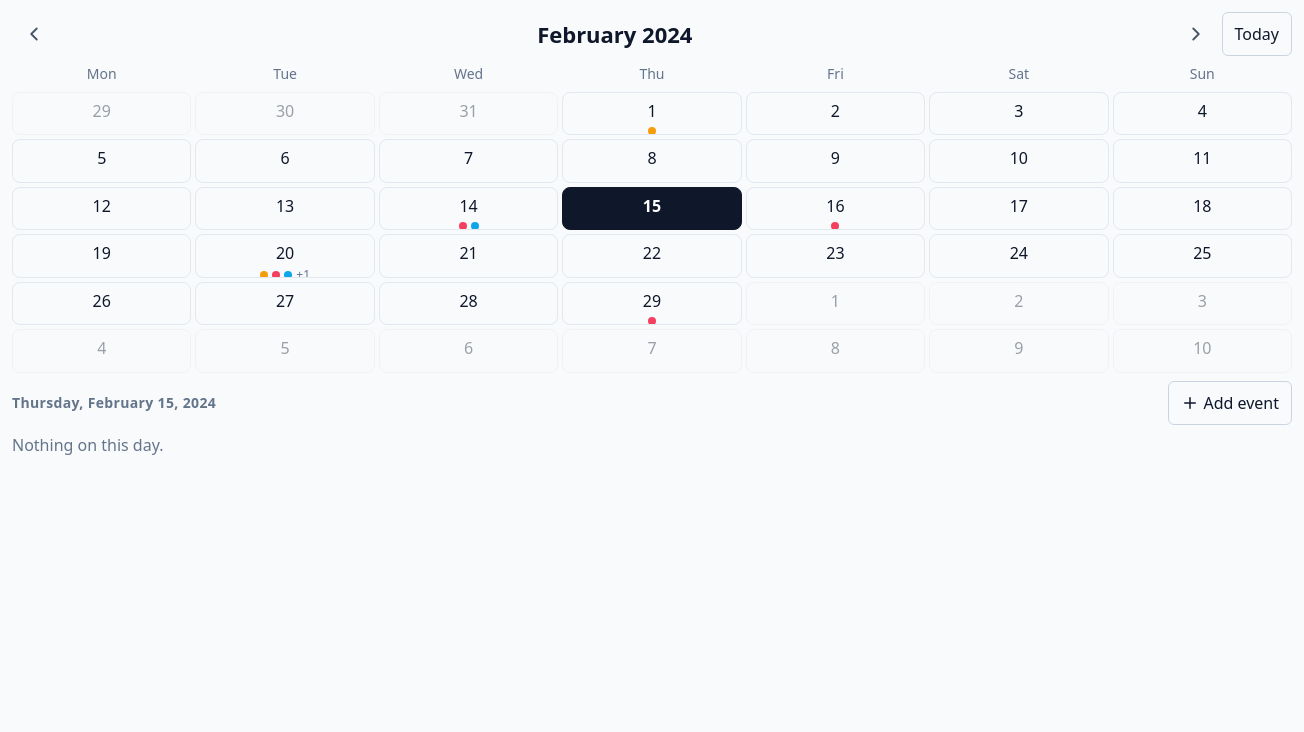
it: Calendar — items land on the right days › lists every item on a busy day in the order the API returned them
This screenshot has width=1304, height=732.
Check: the heading "February 2024" is shown, box x1=537 y1=19 x2=692 y2=49
Step 1. Click the button "14" → (468, 209), box x1=379 y1=187 x2=558 y2=230
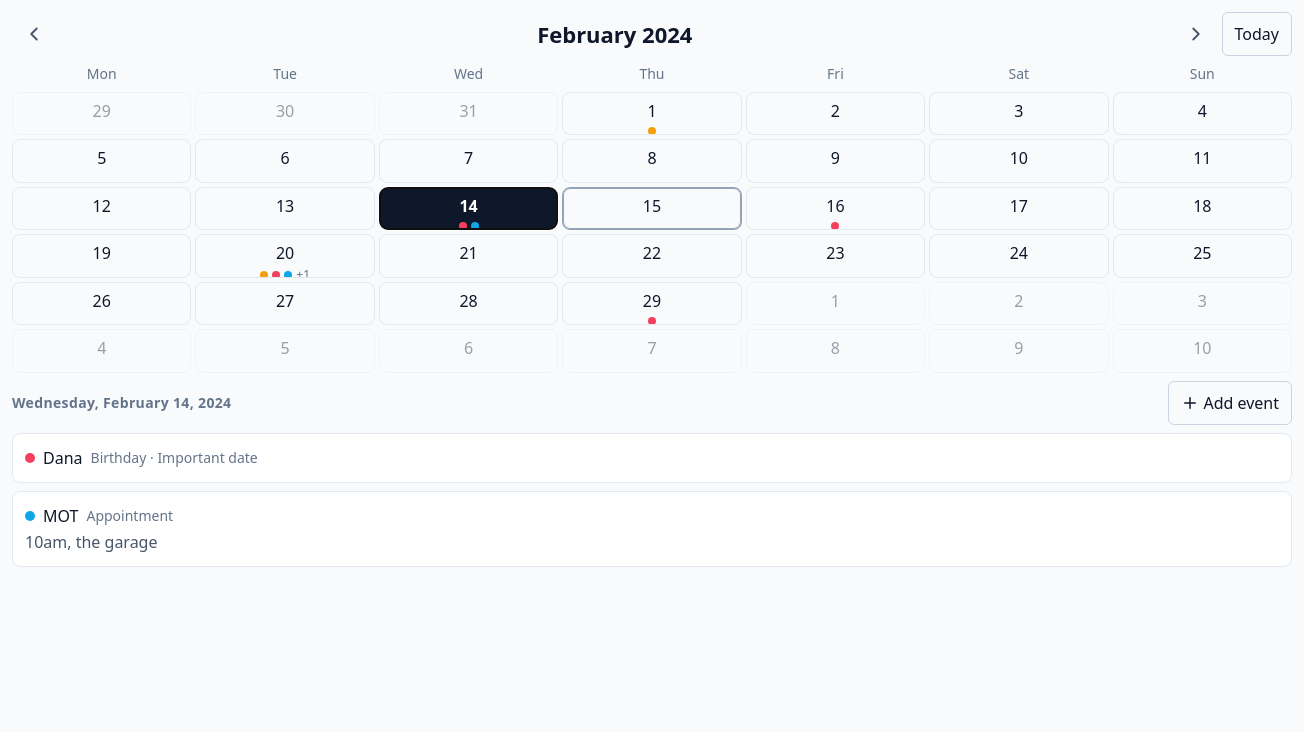
Check: the text "Birthday · Important date" is shown, box x1=90 y1=448 x2=258 y2=468
Check: the text "10am, the garage" is shown, box x1=25 y1=531 x2=158 y2=553
